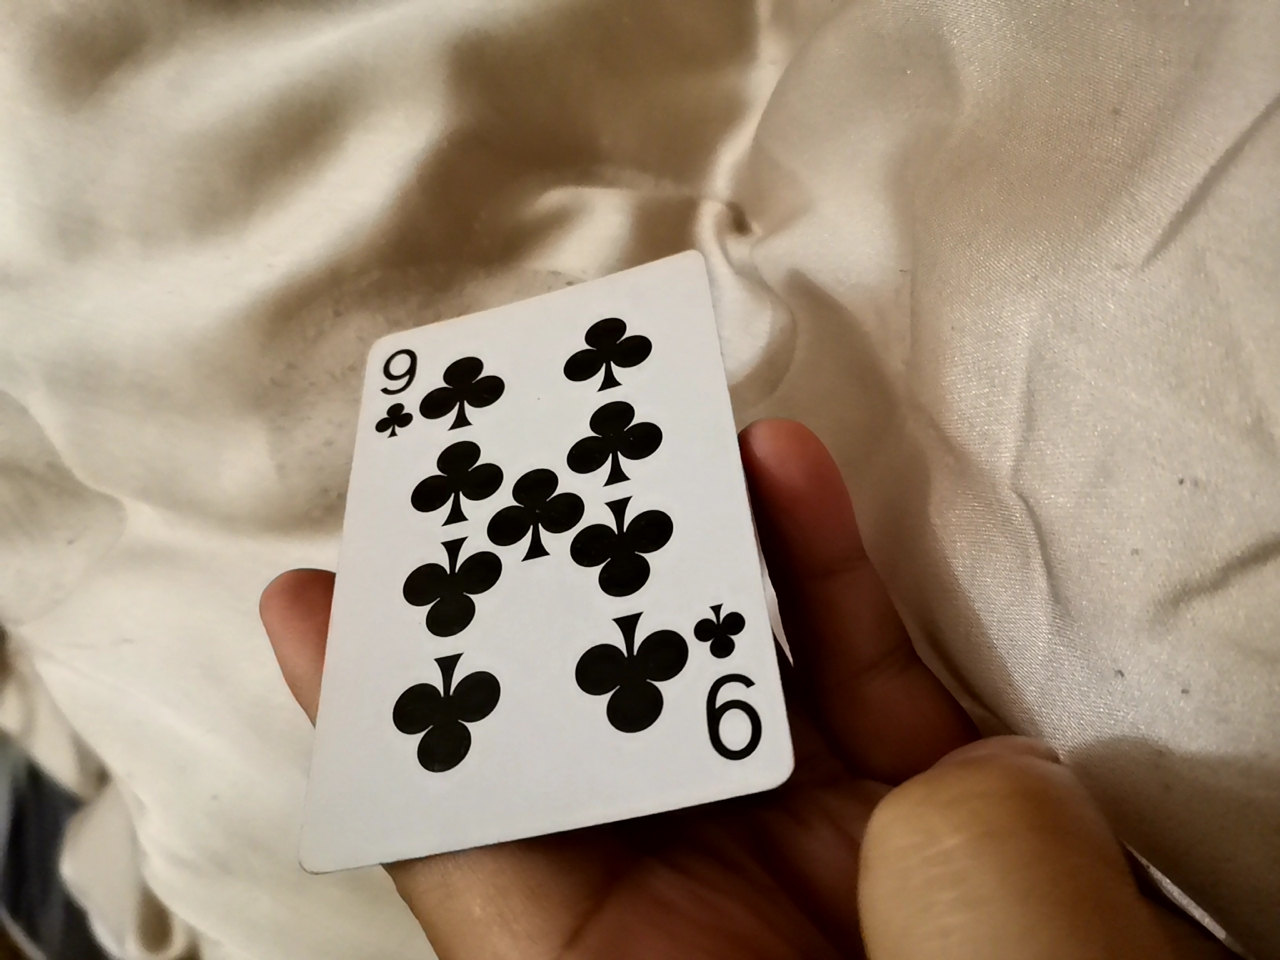mh 9: (318, 245, 774, 881)
